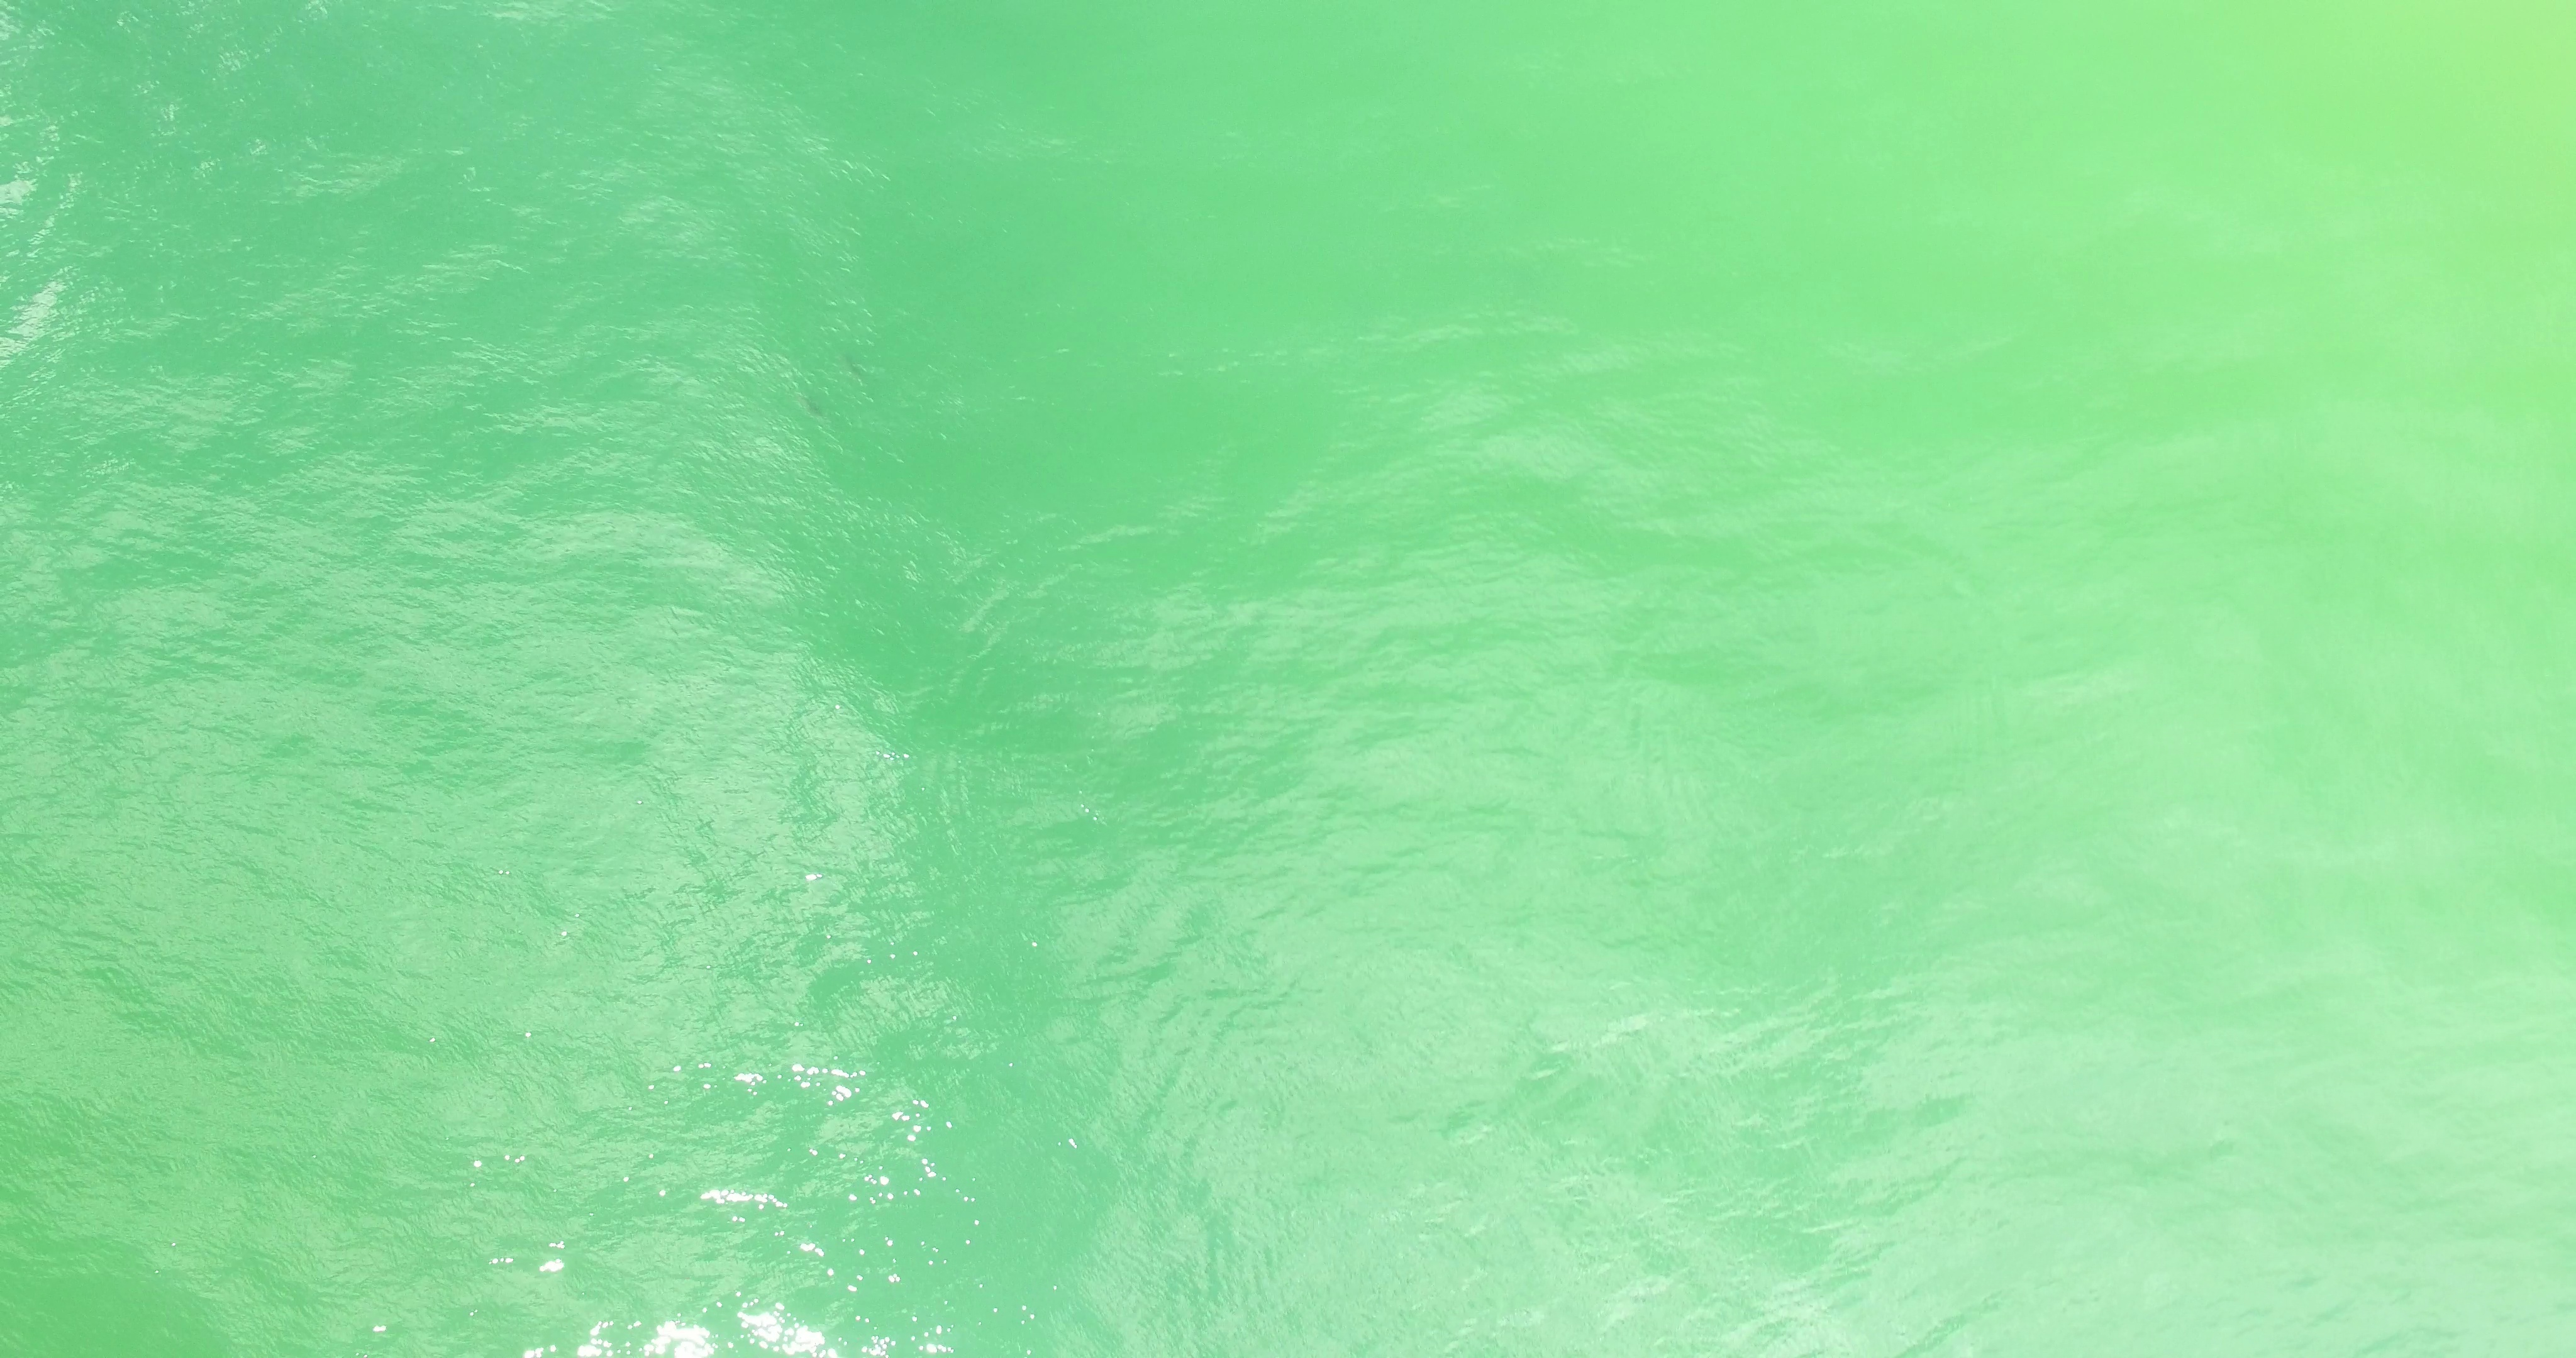dolphin: (787, 383, 830, 424), (835, 348, 867, 382)
